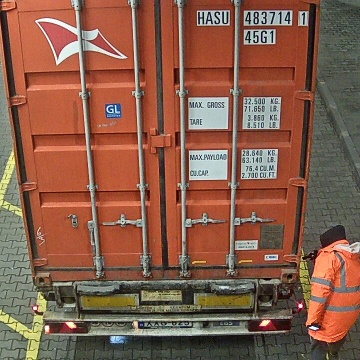serial_id: (197, 10, 307, 25)
